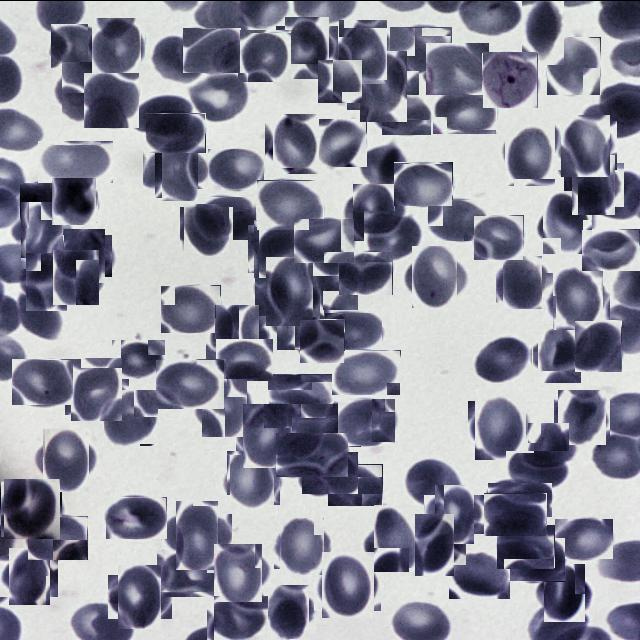red blood cell: (318, 554, 378, 614), (353, 56, 413, 115), (472, 396, 530, 456), (156, 358, 225, 408), (260, 262, 319, 320), (2, 479, 61, 537), (257, 179, 324, 229), (68, 360, 126, 417), (426, 42, 489, 94), (38, 139, 114, 182), (550, 268, 606, 326), (334, 22, 390, 80), (240, 406, 296, 464), (539, 193, 595, 250), (502, 125, 558, 182), (289, 402, 361, 446), (276, 432, 348, 476), (149, 138, 205, 194), (558, 116, 614, 172), (169, 506, 225, 562), (83, 72, 139, 128), (547, 36, 601, 94), (332, 349, 401, 394), (157, 549, 223, 596), (103, 388, 158, 444), (15, 207, 70, 262), (38, 432, 94, 486), (404, 457, 462, 509), (449, 549, 510, 598), (187, 72, 248, 121), (368, 510, 422, 565), (364, 210, 422, 261), (280, 20, 334, 74), (268, 116, 322, 170), (210, 308, 264, 362), (308, 252, 362, 306), (272, 291, 326, 345), (112, 569, 166, 623), (408, 249, 462, 303), (268, 373, 334, 417), (473, 334, 533, 382), (161, 284, 221, 332), (12, 358, 74, 404), (433, 89, 497, 133), (90, 18, 143, 71), (224, 454, 278, 506), (250, 222, 304, 274), (210, 546, 264, 598), (206, 594, 268, 639), (338, 397, 396, 445), (294, 217, 355, 262), (390, 26, 452, 70), (484, 492, 547, 535), (556, 390, 608, 442), (56, 67, 108, 119), (238, 29, 290, 81), (568, 158, 620, 210), (198, 381, 250, 433), (522, 0, 564, 64), (149, 36, 211, 79), (28, 515, 88, 559), (183, 27, 241, 72), (428, 198, 490, 240), (277, 520, 328, 571), (410, 518, 460, 570), (51, 250, 101, 302), (394, 162, 453, 206), (106, 496, 167, 538), (497, 524, 555, 568), (370, 93, 432, 134), (534, 328, 584, 378), (4, 550, 54, 600), (429, 488, 479, 538), (540, 566, 590, 616), (349, 186, 399, 236), (22, 256, 72, 306), (198, 196, 256, 239), (575, 319, 622, 371), (582, 228, 640, 270), (510, 538, 565, 582), (182, 204, 231, 253), (264, 586, 312, 636), (146, 112, 206, 152), (133, 94, 190, 136), (215, 338, 272, 380), (302, 451, 358, 493), (506, 450, 571, 486), (51, 23, 104, 67), (339, 251, 393, 294), (555, 518, 613, 558), (328, 463, 383, 505), (319, 118, 367, 166), (61, 231, 109, 279), (208, 148, 264, 189), (474, 214, 524, 259), (525, 424, 572, 471), (500, 258, 546, 306), (14, 292, 62, 338), (488, 482, 552, 516), (112, 338, 166, 378), (51, 177, 97, 223), (362, 144, 407, 190), (325, 312, 382, 348), (20, 182, 75, 219), (318, 58, 363, 102), (300, 318, 345, 362)
ring: (482, 52, 538, 108)
